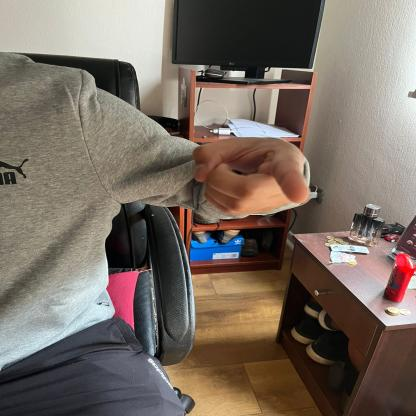X: (191, 132, 317, 220)
